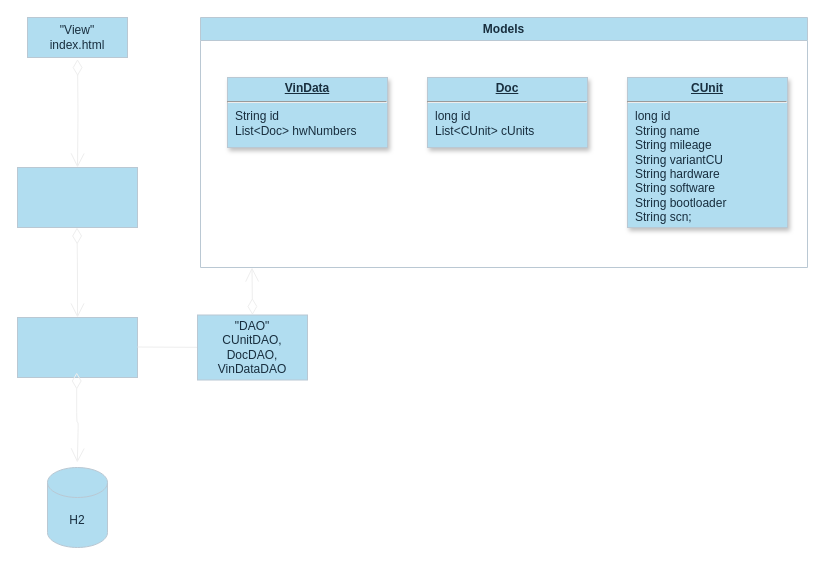
Image size: 825x565. Some labels were removed from this diagram. Here are the shapes that lost their labels. From the top down, the centre of each, then its label:
point (77, 197): "Controller" ViewController
point (77, 347): "Service" RecordService
